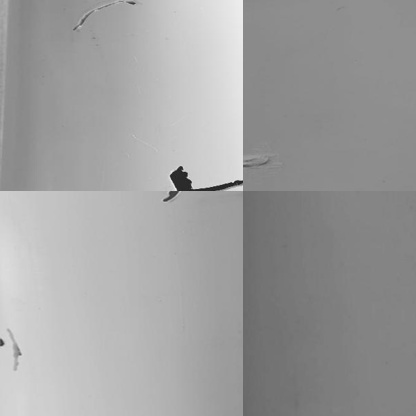fengxi: (70, 1, 140, 28), (192, 176, 244, 192)
kongdong: (170, 160, 191, 191)
sunshang: (1, 325, 28, 375), (243, 150, 287, 179)
